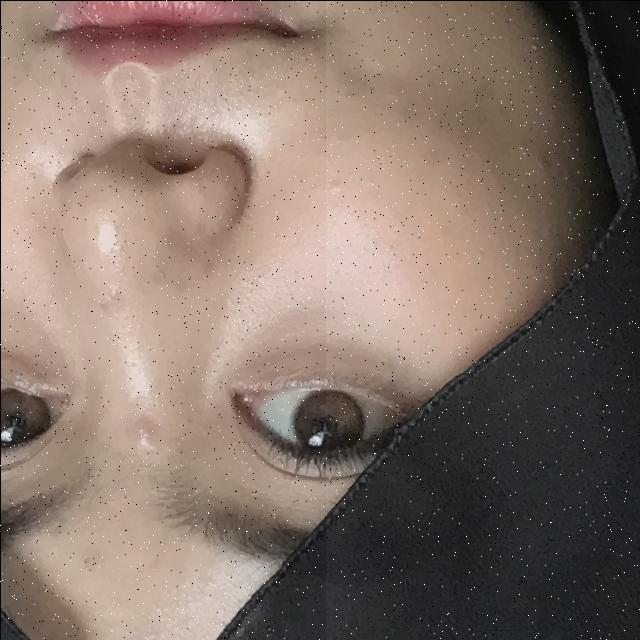mendengar: (325, 0, 640, 640)
